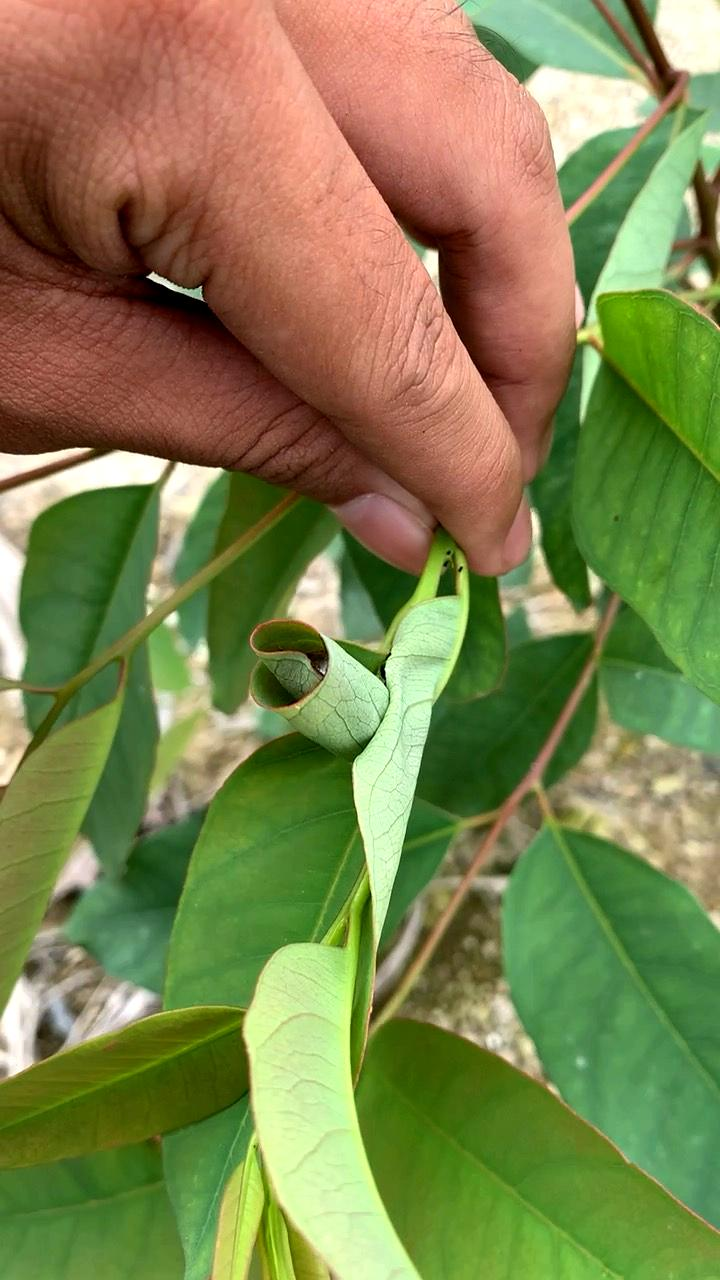Leaf Roller - Leaf: (216, 578, 435, 808)
